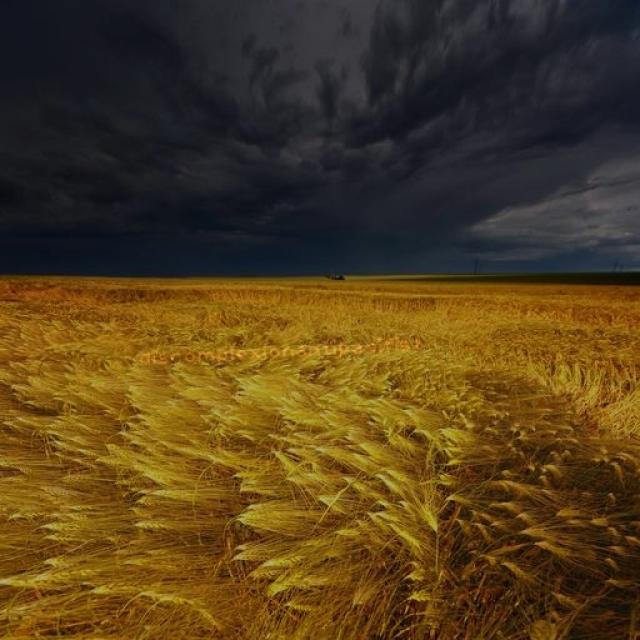watermark: (132, 335, 422, 368)
